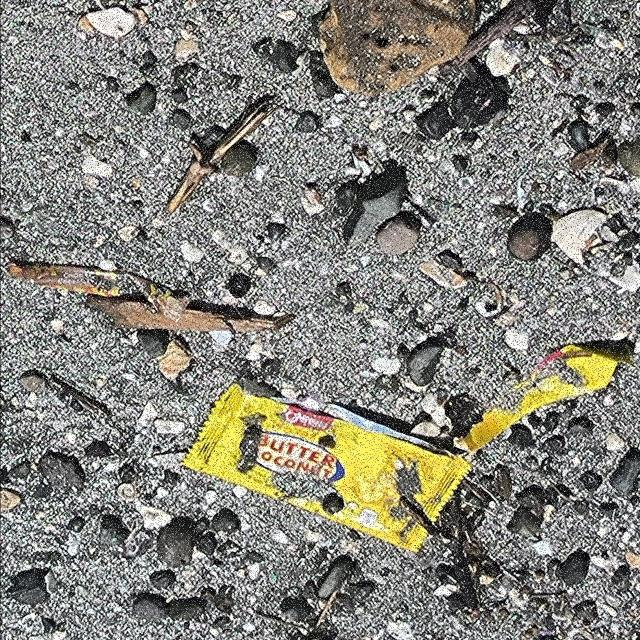plastic_waste: (178, 343, 619, 555)
